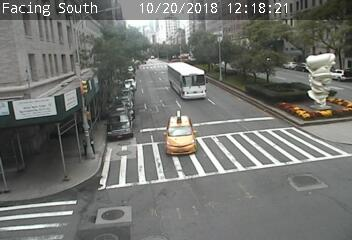car: (167, 61, 207, 100), (163, 111, 196, 155)
